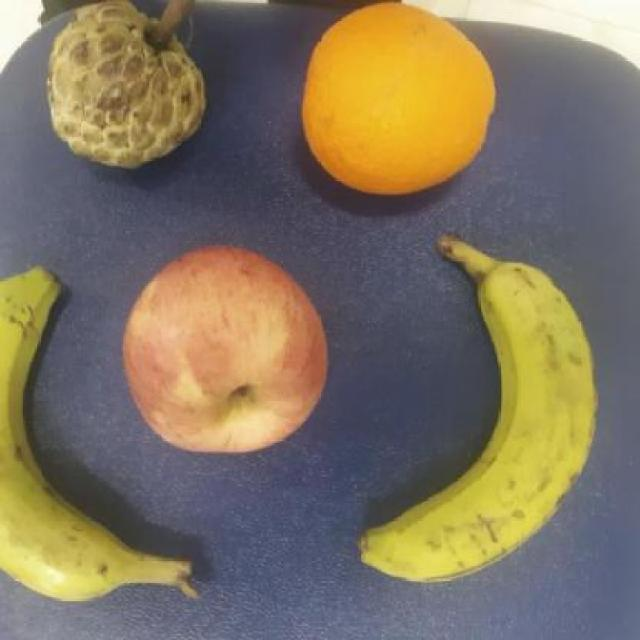apple: (120, 243, 338, 459)
banana: (348, 260, 608, 588), (1, 272, 128, 617)
oren: (296, 3, 498, 203)
sugar apple: (32, 1, 208, 179)
